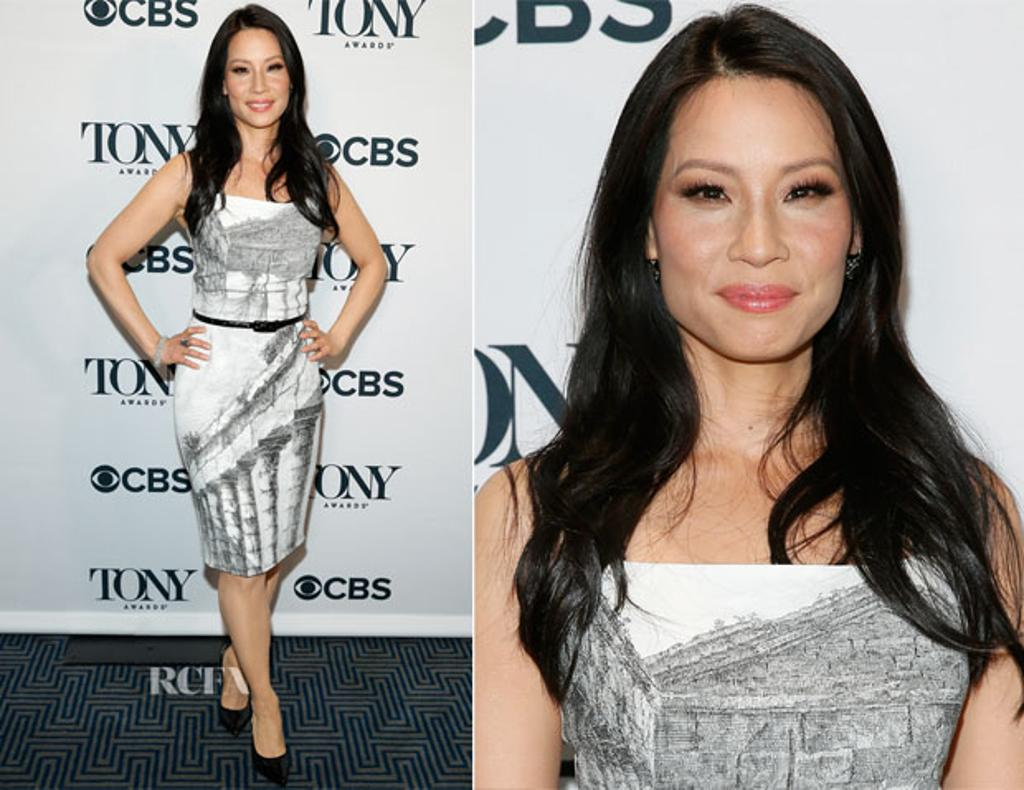face: (652, 60, 852, 368), (220, 22, 290, 130)
